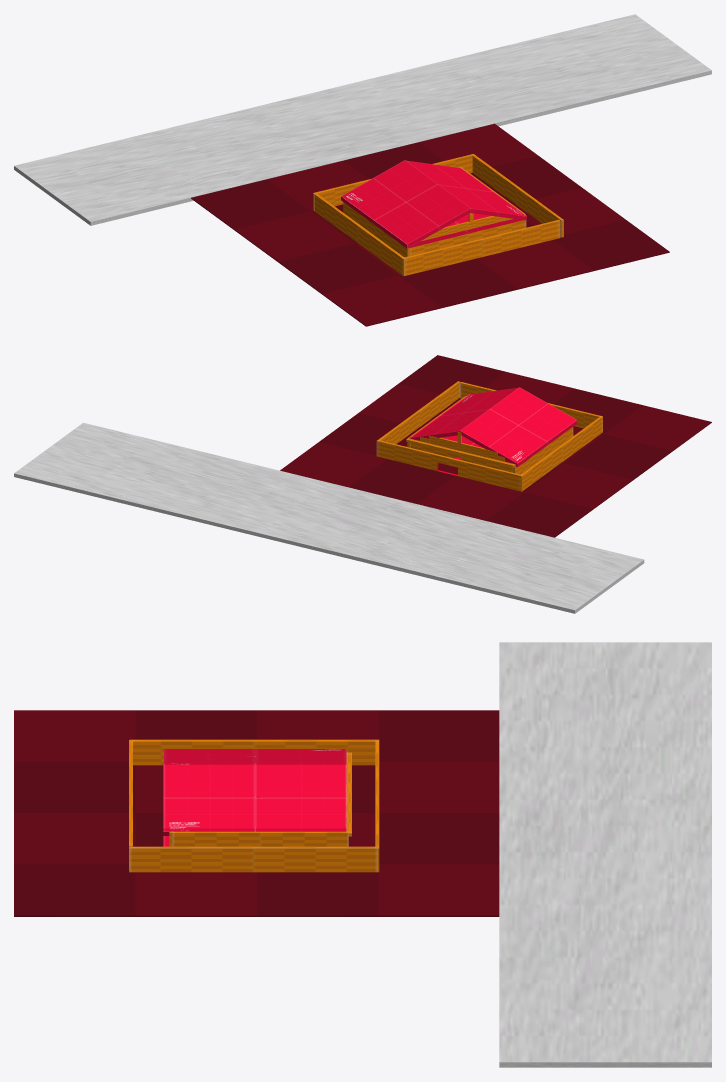
The model's file is level-6.gltf.
The picture shows the model from 3 angles, top to bottom: view 1: azimuth 30°, elevation 25°; view 2: azimuth 150°, elevation 25°; view 3: azimuth 270°, elevation 25°; orthographic projection. The views are drawn at different scales.
Visible parts, largest first — view 1: CSGCombiner3D2; view 2: CSGCombiner3D2; view 3: CSGCombiner3D2.
Boxes of the visible parts, x1,y1,x2,y2 form: CSGCombiner3D2: [14, 14, 711, 326]; CSGCombiner3D2: [14, 355, 711, 613]; CSGCombiner3D2: [14, 642, 711, 1067].
Size of the model in its own units: 164 by 11.05 by 115.
24 materials, 9 textured.
